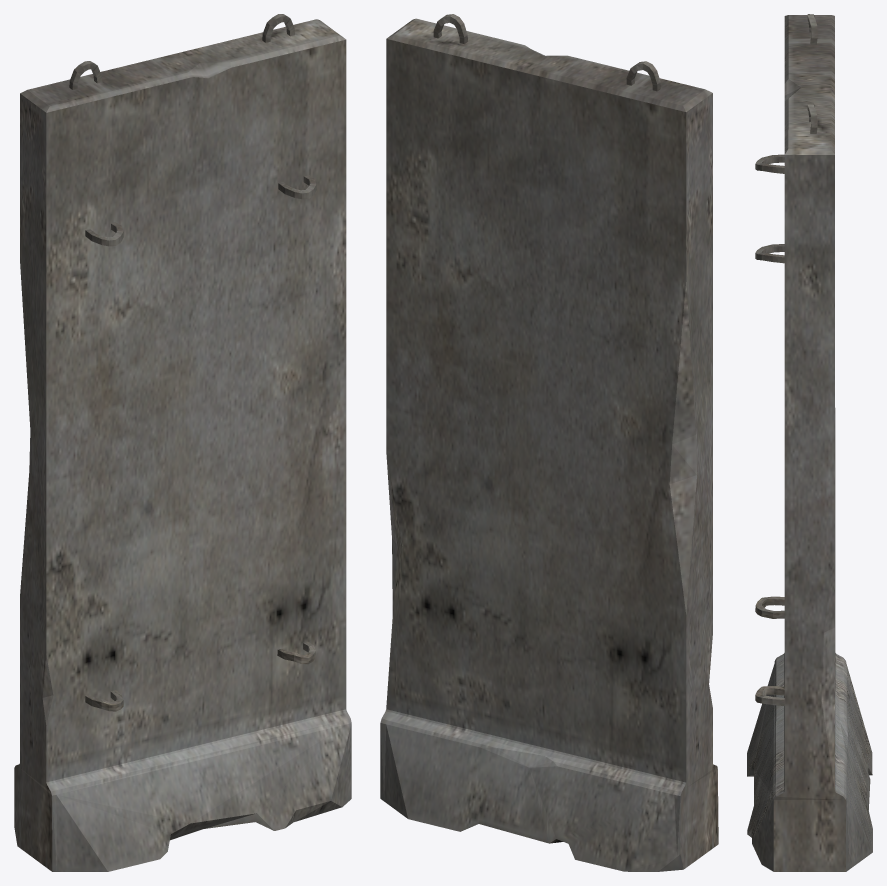
File: concrete_wall.obj
3 views of the same model, side by side, from view 1: azimuth 30°, elevation 25°; view 2: azimuth 150°, elevation 25°; view 3: azimuth 270°, elevation 25° (orthographic). The views are drawn at different scales.
Visible parts, largest first — view 1: DrawCall_0; view 2: DrawCall_0; view 3: DrawCall_0.
Boxes of the visible parts, <box> form: DrawCall_0: <box>14,14,351,871</box>; DrawCall_0: <box>380,14,718,871</box>; DrawCall_0: <box>747,14,872,871</box>.
Bounding box in the file's own units: 0.5575 × 1.39 × 0.2126.
